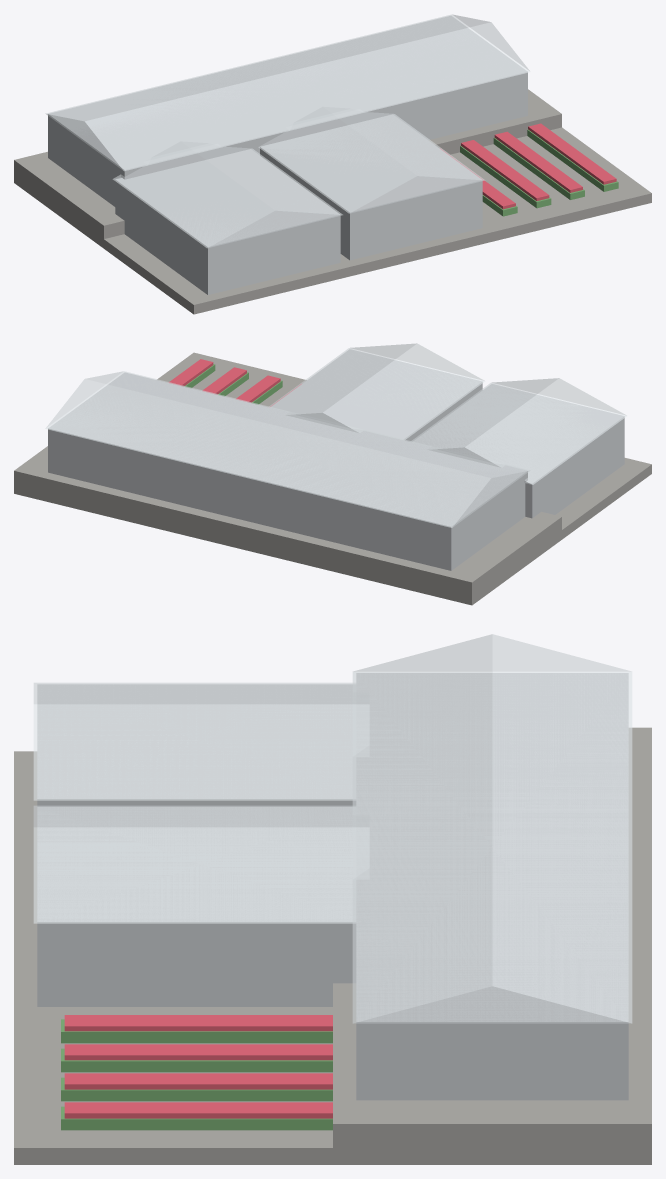
Rendered from lm_55_van_thanh_flower_village_rose_and_gerbera_glasshouse_kit.glb.
The picture shows the model from 3 angles, top to bottom: view 1: azimuth 30°, elevation 25°; view 2: azimuth 150°, elevation 25°; view 3: azimuth 270°, elevation 25°; orthographic projection. The views are drawn at different scales.
Visible parts, largest first — view 1: lm_55_van_thanh_flower_village_rose_and_gerbera_glasshouse_k; view 2: lm_55_van_thanh_flower_village_rose_and_gerbera_glasshouse_k; view 3: lm_55_van_thanh_flower_village_rose_and_gerbera_glasshouse_k.
Part boxes in pixels (x1=…): lm_55_van_thanh_flower_village_rose_and_gerbera_glasshouse_k: x1=14, y1=14, x2=651, y2=314; lm_55_van_thanh_flower_village_rose_and_gerbera_glasshouse_k: x1=14, y1=343, x2=651, y2=605; lm_55_van_thanh_flower_village_rose_and_gerbera_glasshouse_k: x1=14, y1=634, x2=651, y2=1164.
Size of the model in its own units: 50 by 9.2 by 34.
